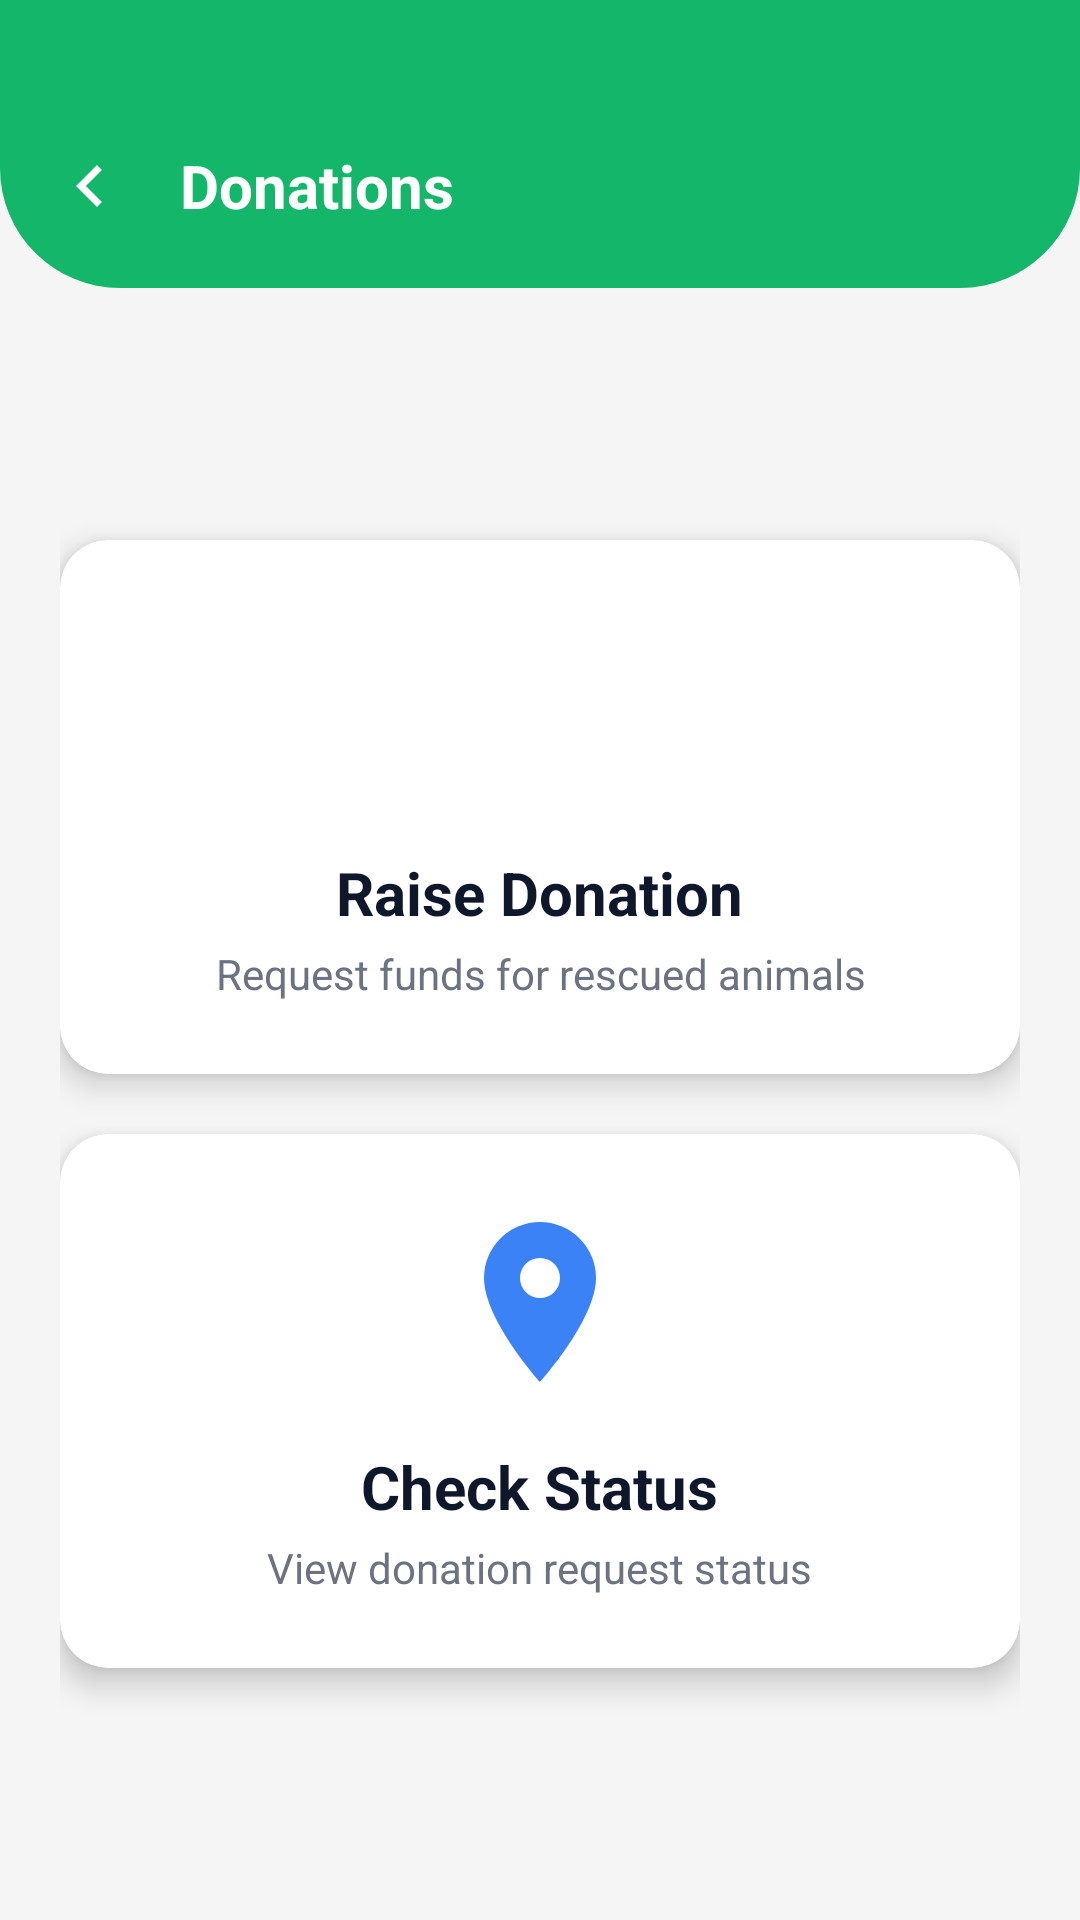

Screen size 1080px x 1920px. Icon name, then its center in pixels as point (x, y):
back: point (89, 186)
track: point (540, 1302)
